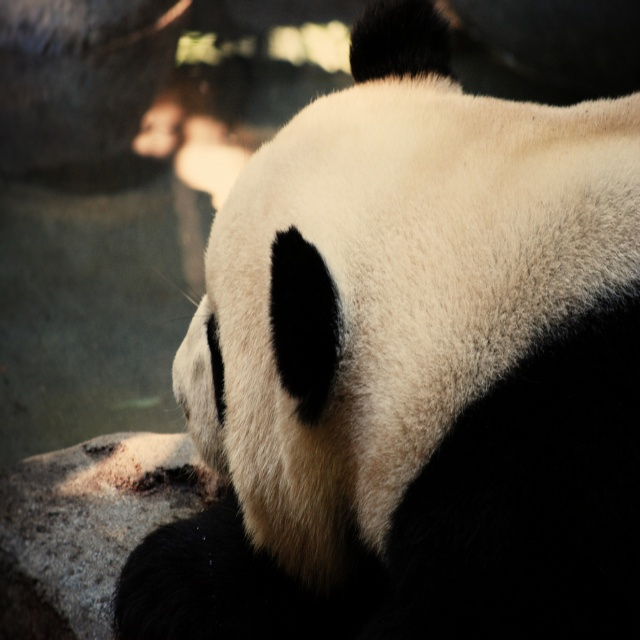Panda: (113, 0, 640, 639)
